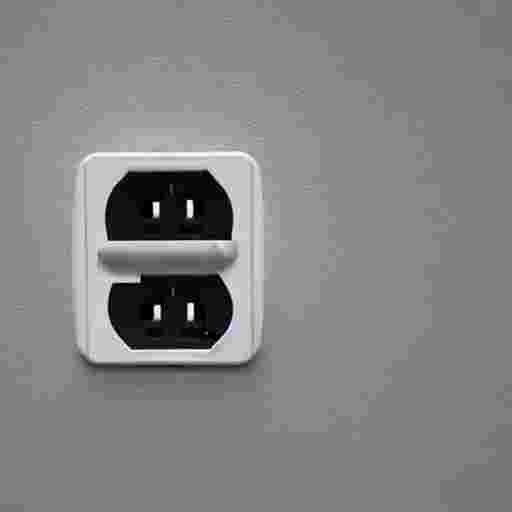power outlet: (72, 152, 262, 364)
